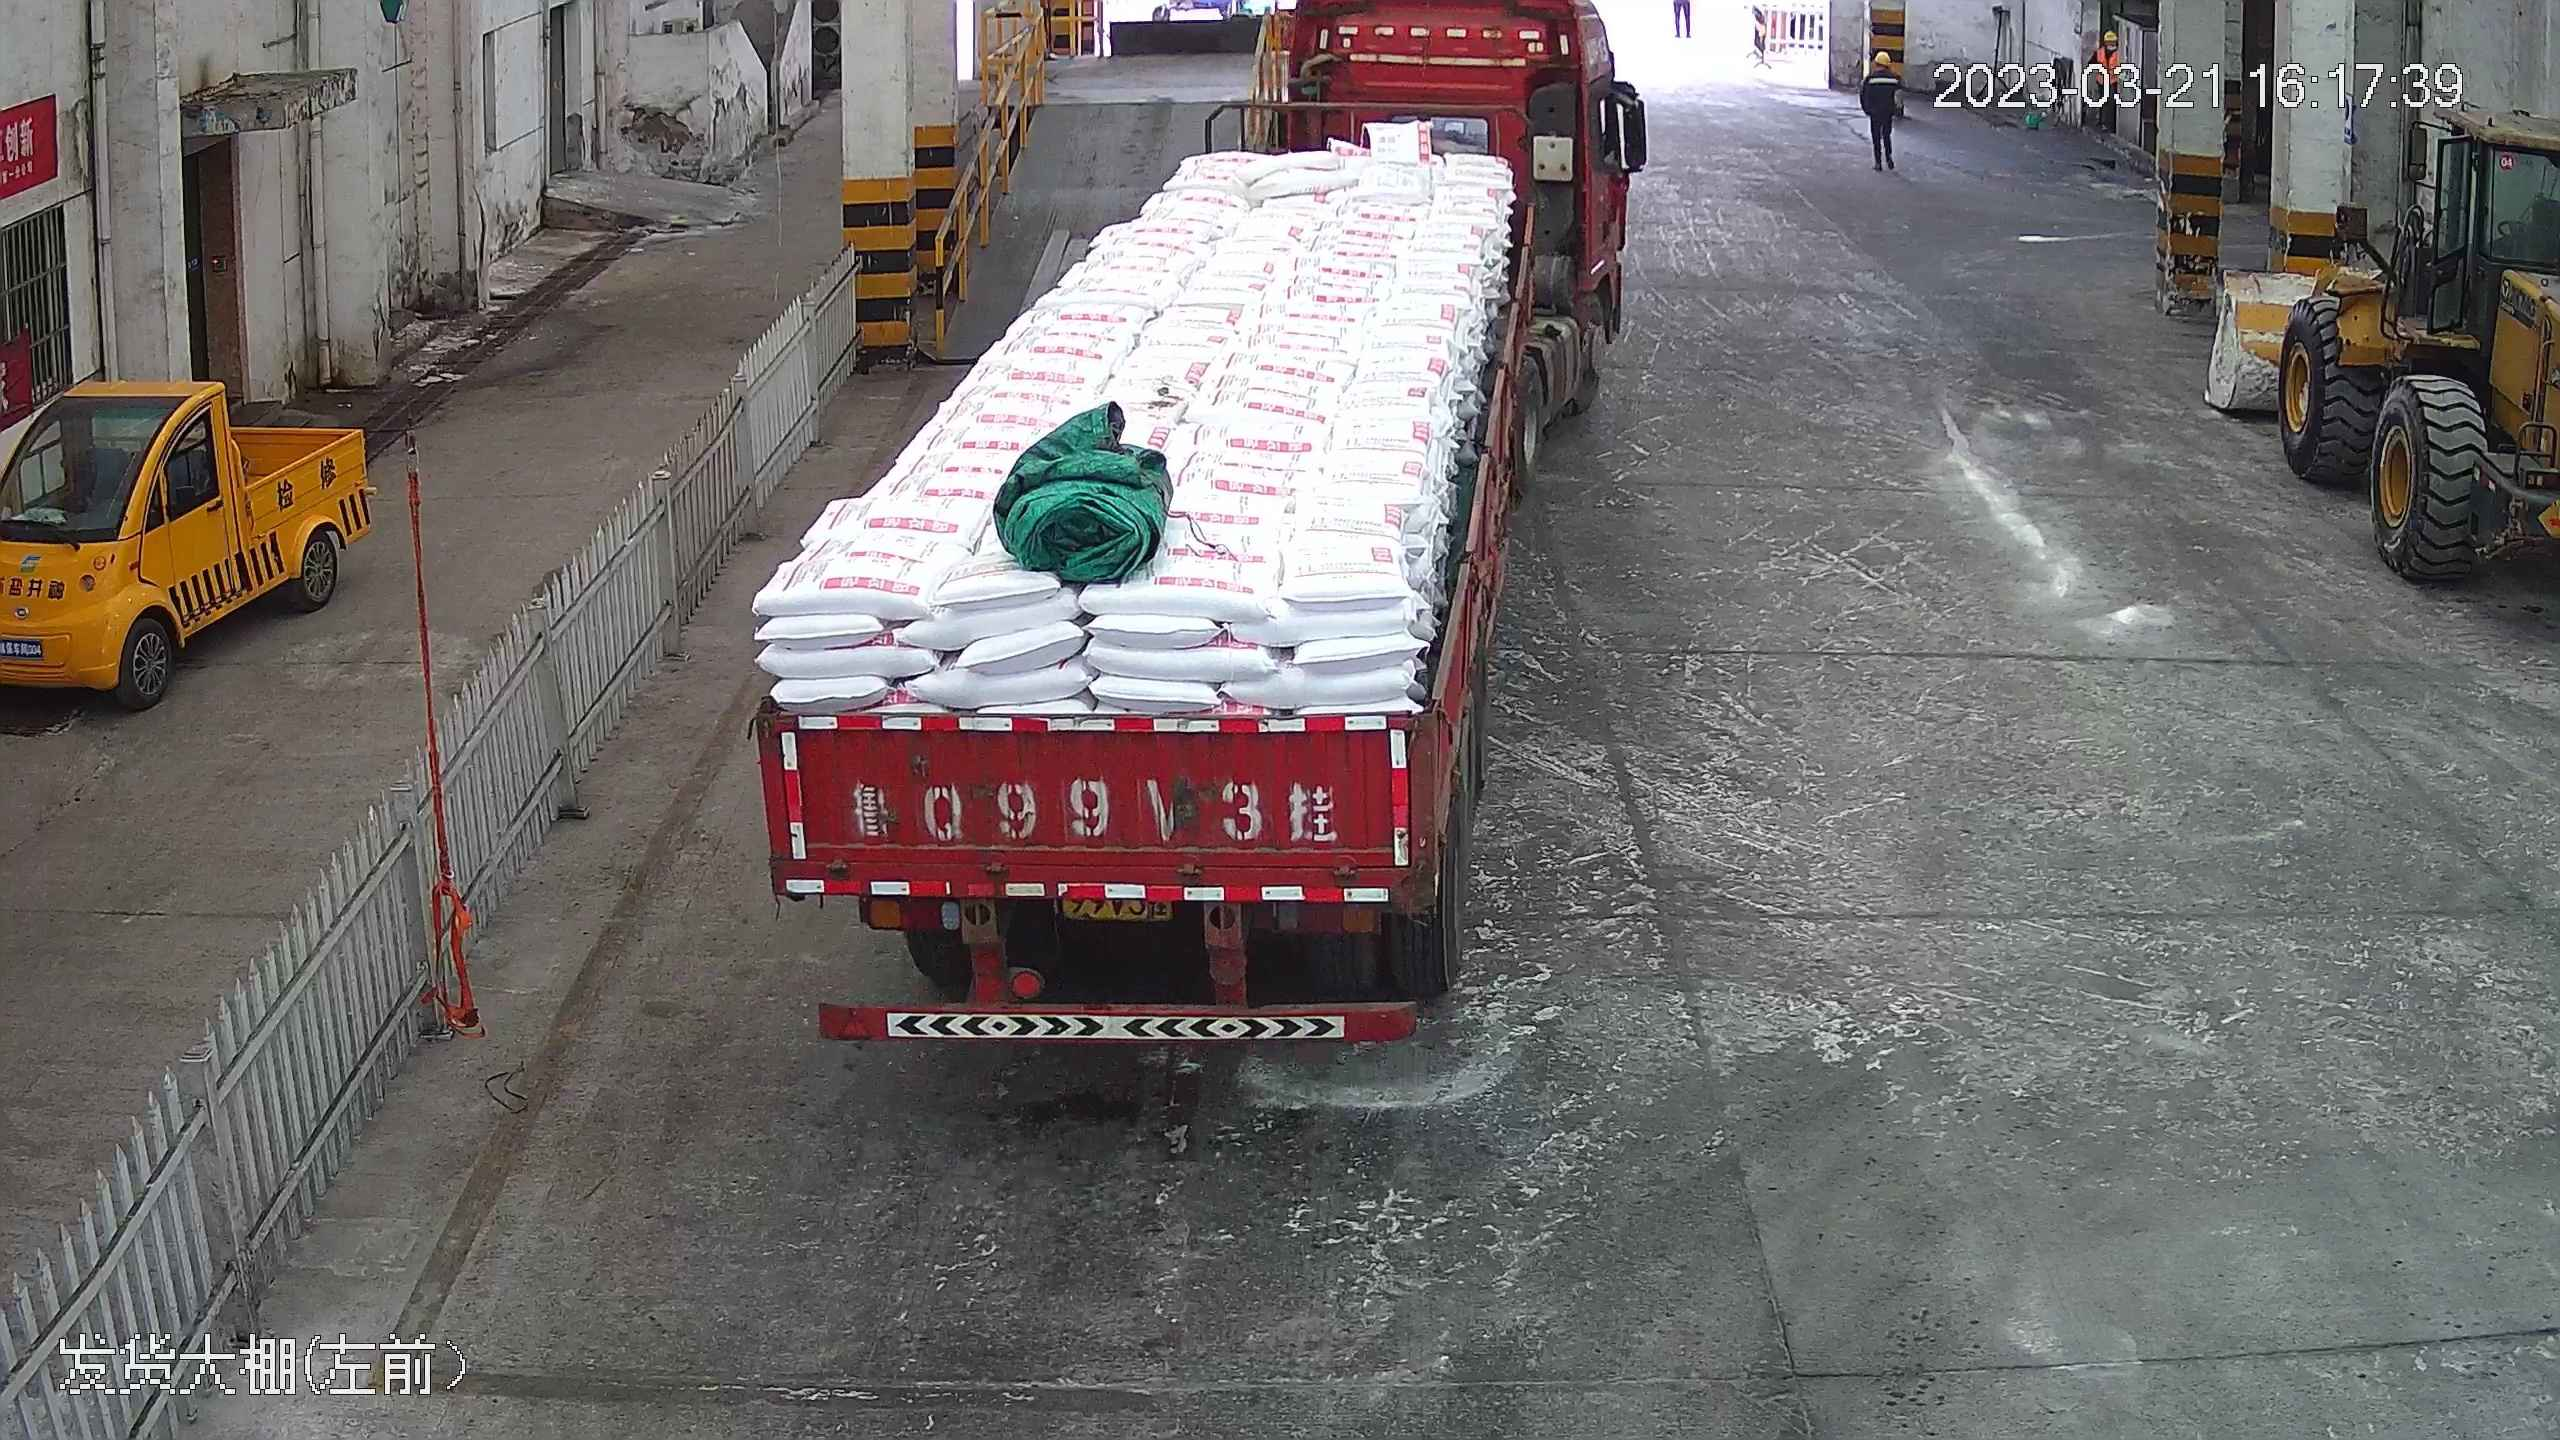head: (1861, 51, 1904, 89), (2090, 29, 2121, 67)
helmet: (1873, 51, 1891, 69), (2103, 29, 2120, 45)
people: (1857, 52, 1906, 170)
truck: (738, 1, 1596, 1062)
